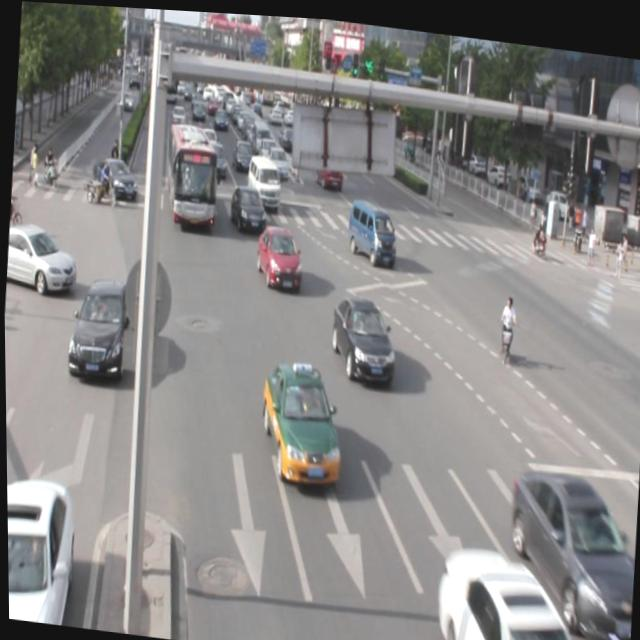car: (497, 451, 640, 638), (429, 531, 586, 640), (255, 352, 345, 484), (5, 471, 76, 625), (64, 272, 132, 385), (327, 290, 396, 380), (254, 219, 303, 286), (228, 181, 267, 234)
truck: (345, 191, 396, 261)
van: (161, 118, 222, 229)
